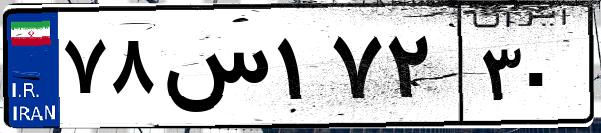0: (525, 38, 570, 115)
1: (270, 28, 330, 110)
2: (385, 28, 445, 110)
3: (475, 38, 525, 113)
7: (330, 28, 385, 110), (57, 26, 110, 100)
8: (110, 28, 158, 98)
س: (158, 20, 270, 120)
